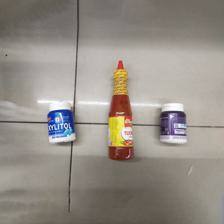Tuong: (105, 58, 138, 160)
Xylitol_BTS: (155, 103, 191, 144)
Xylitol_blue: (46, 99, 78, 145)
